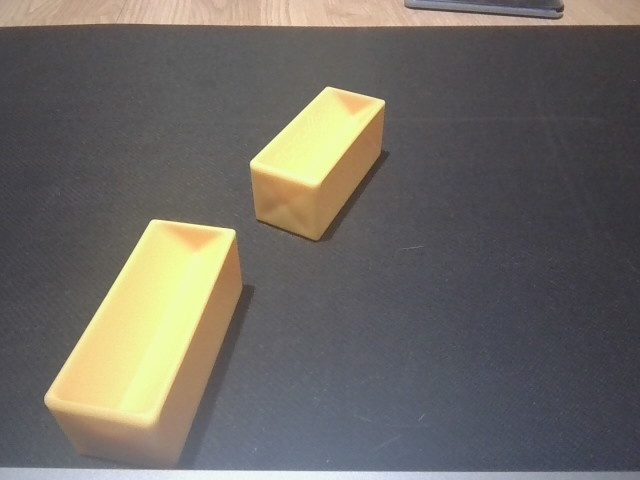YellowSample: (40, 214, 247, 470), (246, 83, 390, 245)
